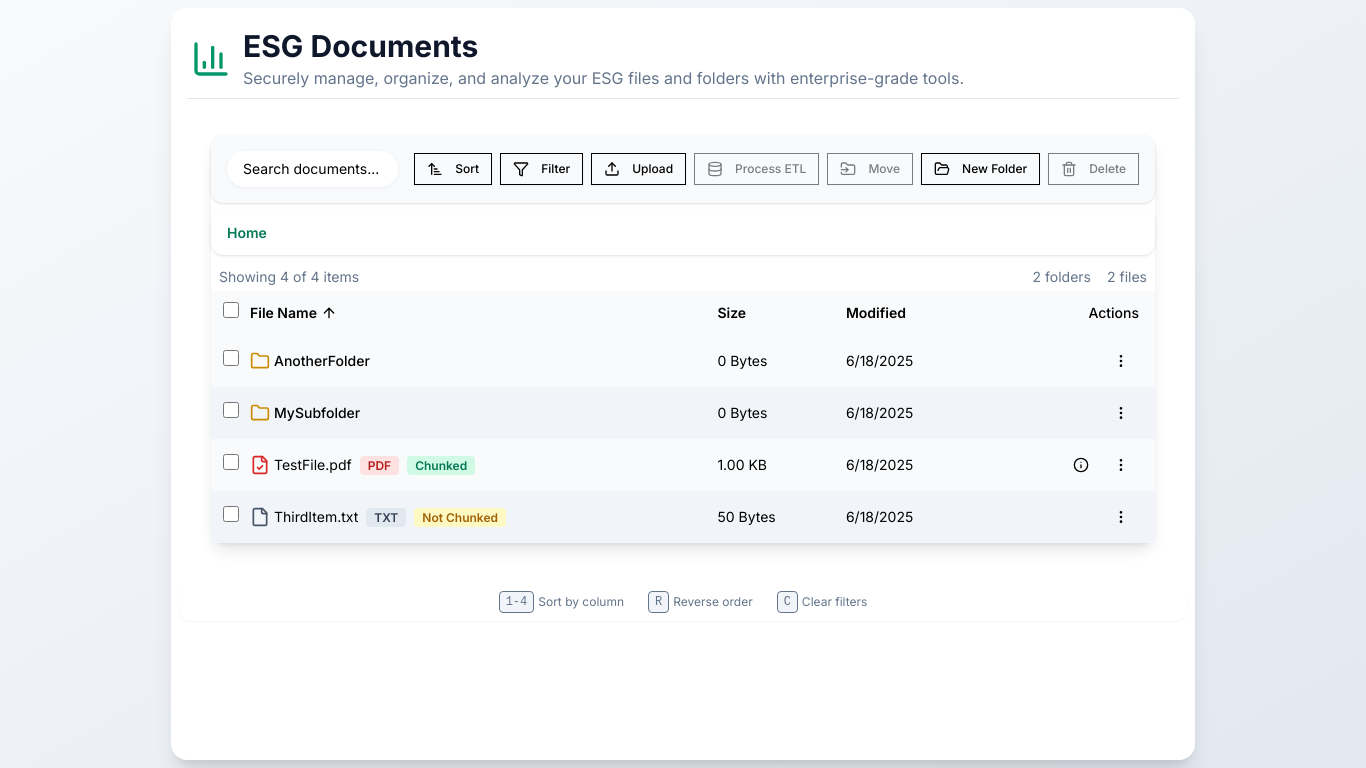
Scenario: Delete Functionality › should delete a single item using its dropdown menu delete button
Expected: the text "TestFile.pdf" is shown, [274,456,352,472]
Note: Click the "More actions" button to open the dropdown
Click the button titled "More actions" in the row of "TestFile.pdf" at (1121, 464), box [1103,446,1139,482]
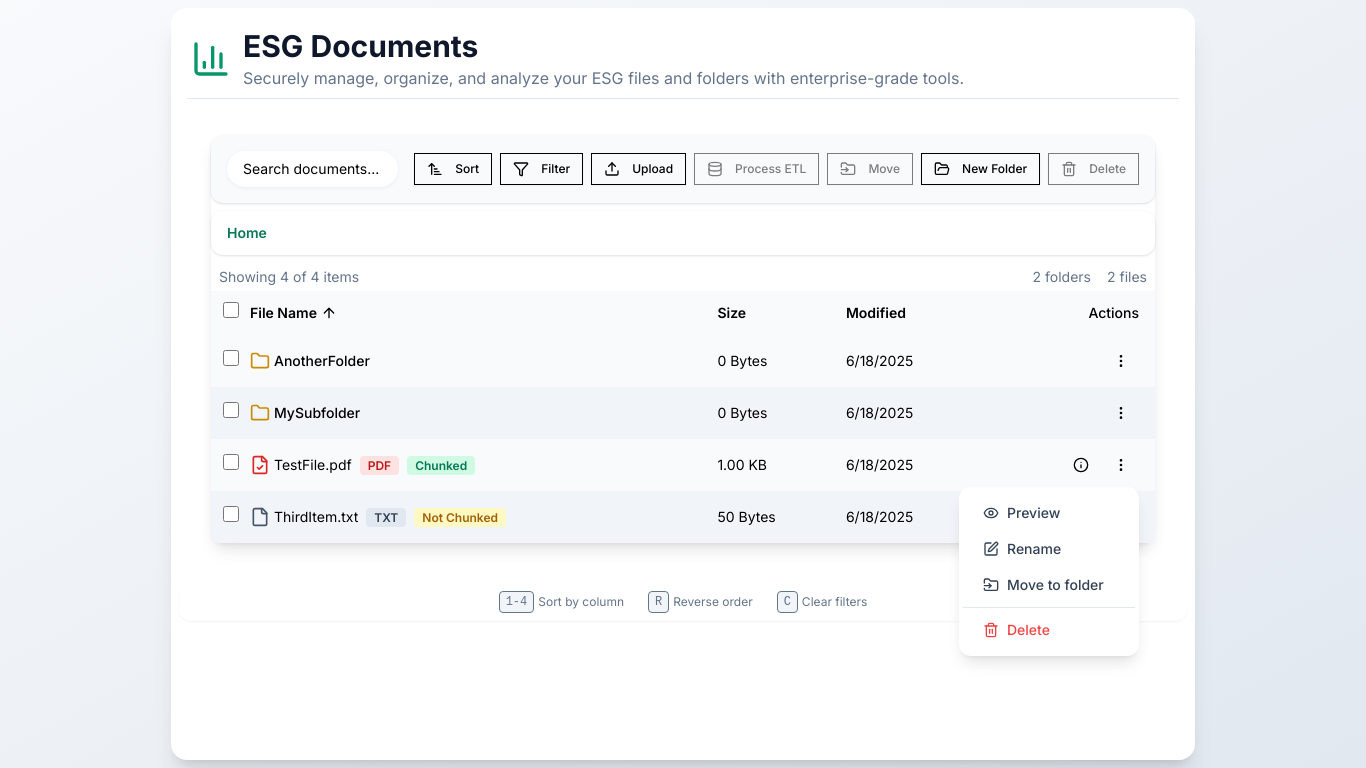
Click the menu item "Delete" at (1016, 630), box [983,621,1050,638]
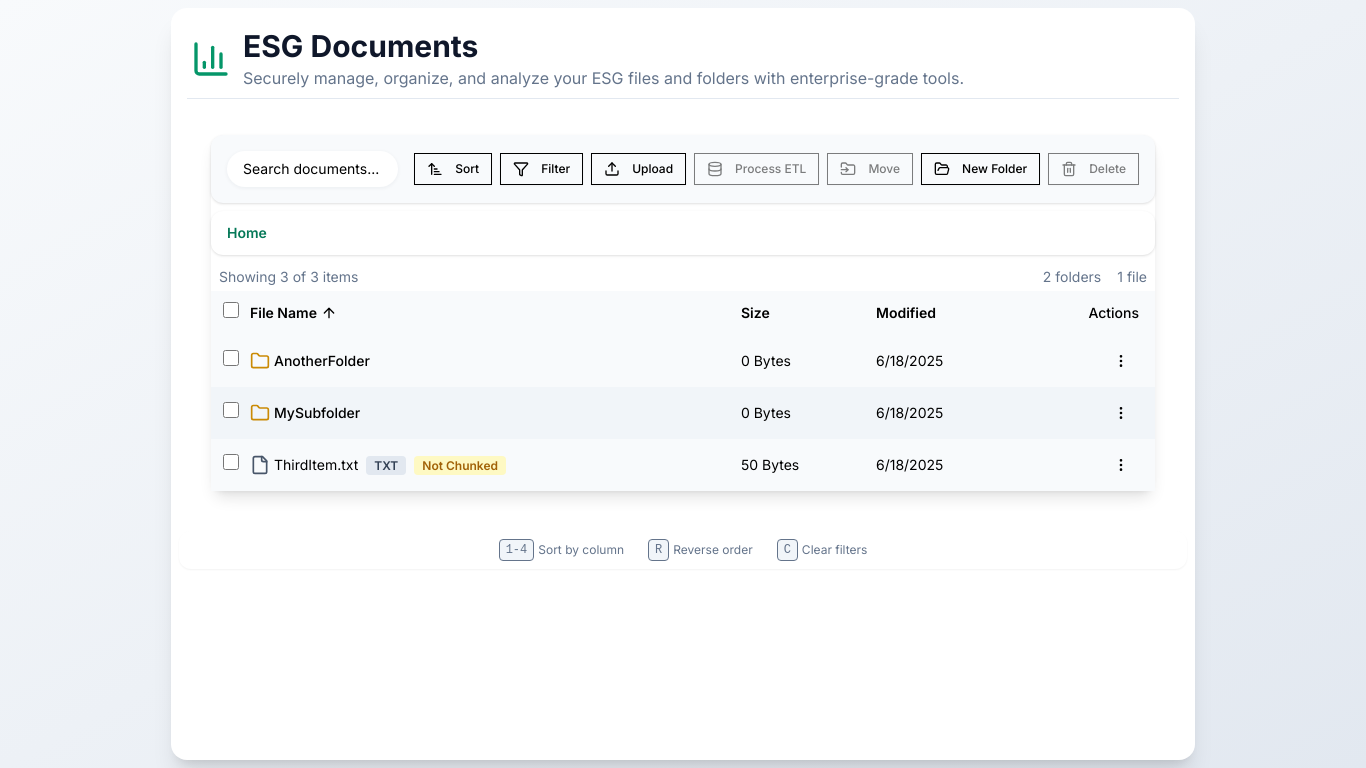
Expected: the button "Delete" is disabled, [1048,152,1139,184]
Result: the text "TestFile.pdf" is gone
